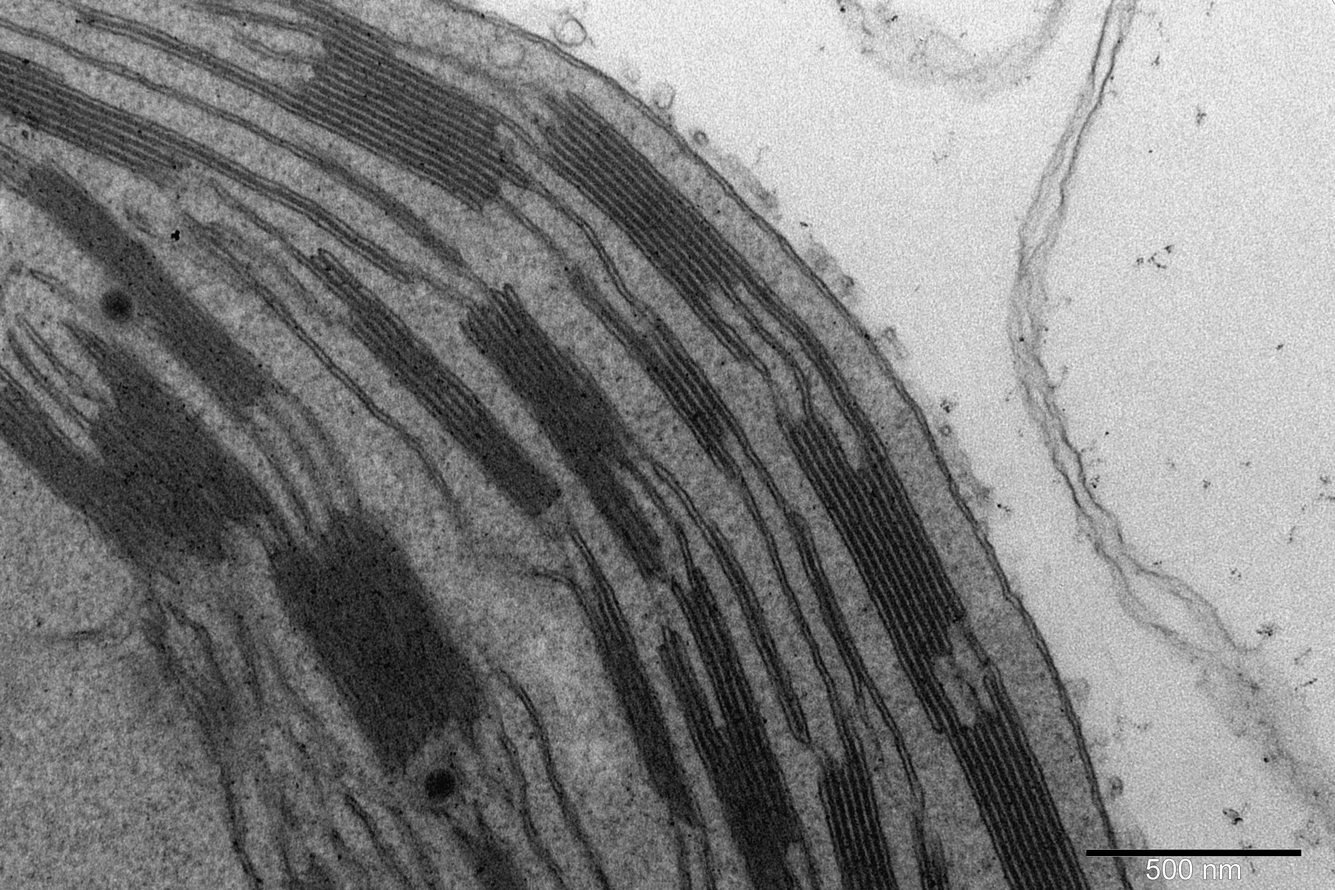granum: (297, 243, 569, 527), (12, 151, 282, 428), (0, 324, 280, 585), (456, 277, 675, 590), (260, 506, 501, 788), (778, 407, 970, 739), (278, 0, 518, 219), (535, 87, 762, 311), (653, 579, 812, 890), (0, 48, 210, 194), (574, 589, 702, 828), (944, 702, 1095, 890), (701, 520, 809, 735), (618, 316, 744, 455), (814, 758, 905, 890), (154, 646, 255, 745), (449, 825, 535, 890), (910, 827, 953, 890), (278, 866, 349, 890)
